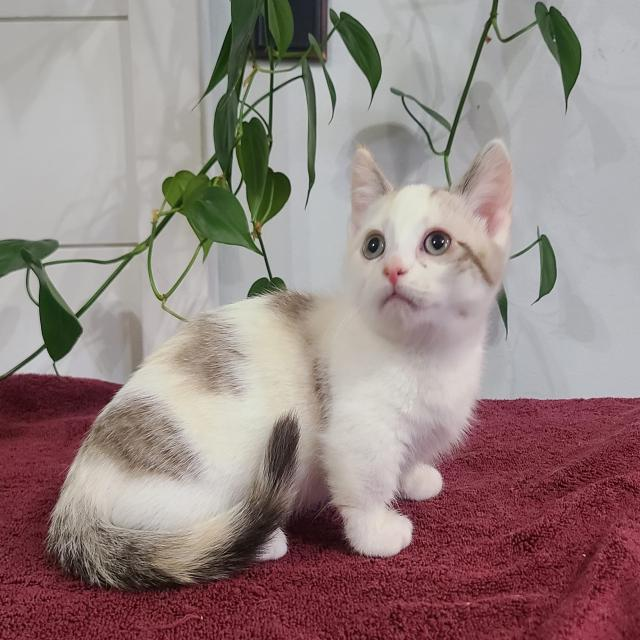Munchkin: (42, 133, 519, 594)
